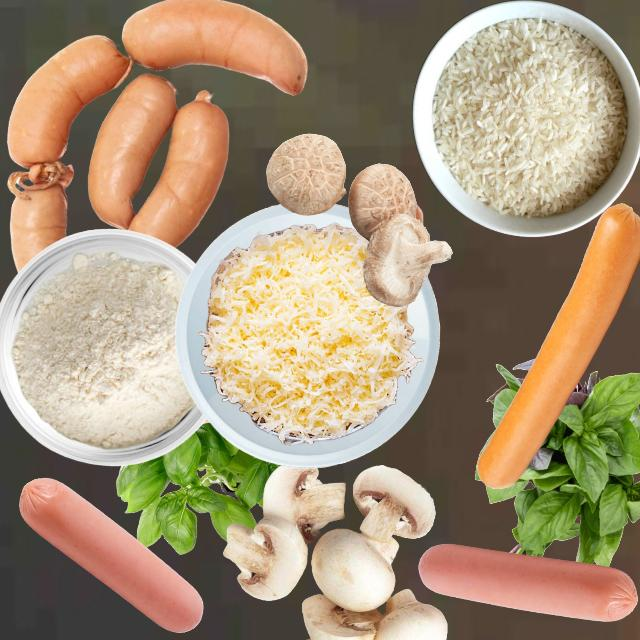Flour: (11, 250, 194, 449)
